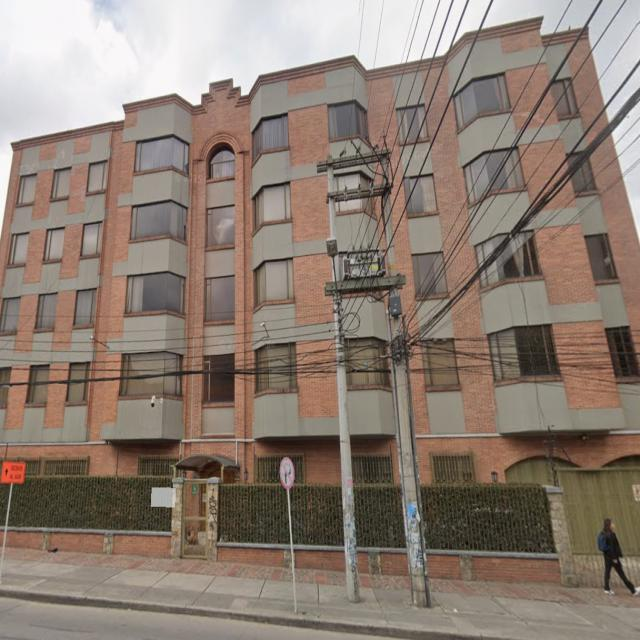fachada: (0, 19, 603, 482)
poste: (390, 313, 430, 607), (334, 291, 359, 602), (0, 483, 13, 584), (287, 490, 297, 613)
